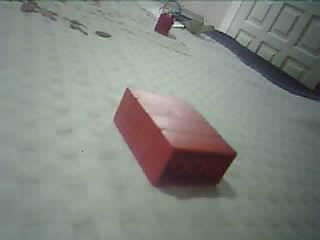lego: (109, 83, 238, 189)
